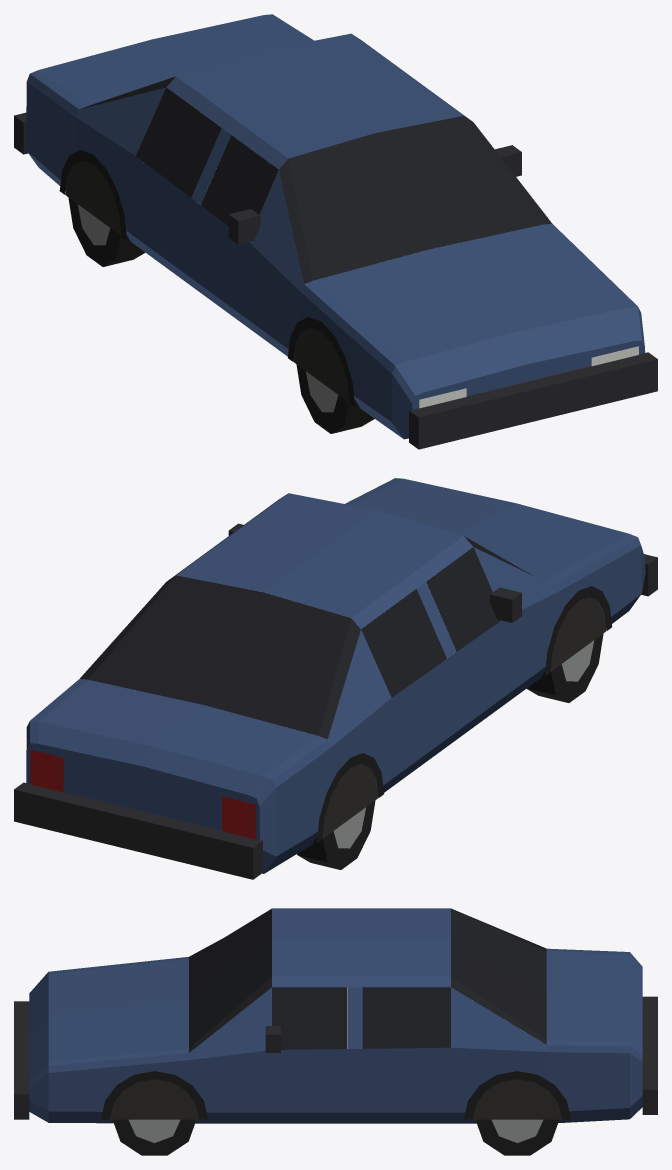
The model's file is town_car_blue.gltf.
3 renders of one model, top to bottom at view 1: azimuth 30°, elevation 25°; view 2: azimuth 150°, elevation 25°; view 3: azimuth 270°, elevation 25°, orthographic. The views are drawn at different scales.
Parts seen in each view (by area): view 1: TownCarBlue_Body, TownCarBlue_Glass, TownCarBlue_Bumpers, TownCarBlue_Arches, TownCarBlue_Tyres, TownCarBlue_Mirrors, TownCarBlue_Rims, TownCarBlue_Headlights; view 2: TownCarBlue_Body, TownCarBlue_Glass, TownCarBlue_Bumpers, TownCarBlue_Arches, TownCarBlue_Tyres, TownCarBlue_Taillights, TownCarBlue_Rims, TownCarBlue_Mirrors; view 3: TownCarBlue_Body, TownCarBlue_Glass, TownCarBlue_Arches, TownCarBlue_Bumpers, TownCarBlue_Tyres, TownCarBlue_Rims, TownCarBlue_Mirrors.
Boxes of the visible parts, box(x1,y1,x2,y2) form: TownCarBlue_Body: box(26, 14, 645, 439); TownCarBlue_Glass: box(80, 76, 551, 283); TownCarBlue_Bumpers: box(14, 112, 657, 449); TownCarBlue_Arches: box(59, 150, 354, 406); TownCarBlue_Tyres: box(68, 197, 374, 433); TownCarBlue_Mirrors: box(228, 145, 521, 244); TownCarBlue_Rims: box(77, 204, 338, 412); TownCarBlue_Headlights: box(419, 346, 638, 408); TownCarBlue_Body: box(26, 478, 645, 873); TownCarBlue_Glass: box(80, 536, 533, 739); TownCarBlue_Bumpers: box(14, 554, 657, 879); TownCarBlue_Arches: box(316, 586, 612, 843); TownCarBlue_Tyres: box(297, 633, 603, 869); TownCarBlue_Taillights: box(30, 749, 255, 839); TownCarBlue_Rims: box(333, 640, 594, 848); TownCarBlue_Mirrors: box(228, 523, 521, 622); TownCarBlue_Body: box(29, 908, 642, 1123); TownCarBlue_Glass: box(189, 908, 546, 1052); TownCarBlue_Arches: box(101, 1071, 570, 1119); TownCarBlue_Bumpers: box(14, 996, 657, 1119); TownCarBlue_Tyres: box(113, 1119, 558, 1155); TownCarBlue_Rims: box(129, 1119, 542, 1142); TownCarBlue_Mirrors: box(265, 1026, 280, 1052).
Size of what is drawn, in the model's own units: 2.04 by 1.44 by 5.04.
Materials: 1 (1 with a texture image).
